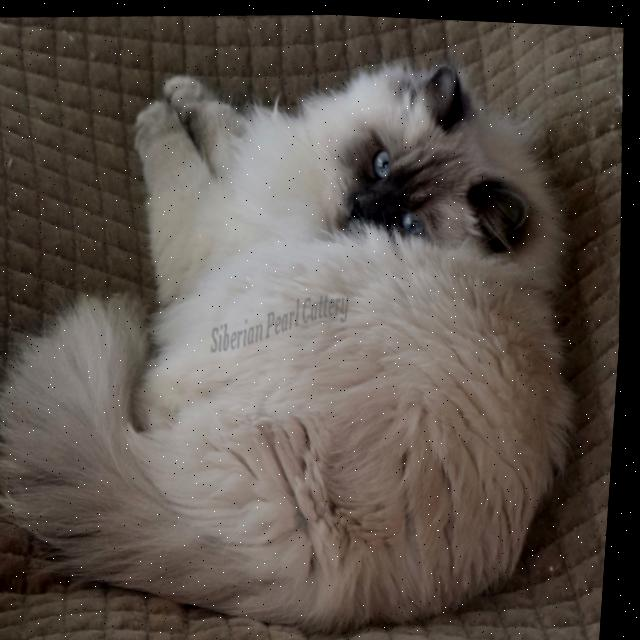Neva Masquerade: (0, 24, 614, 640)
